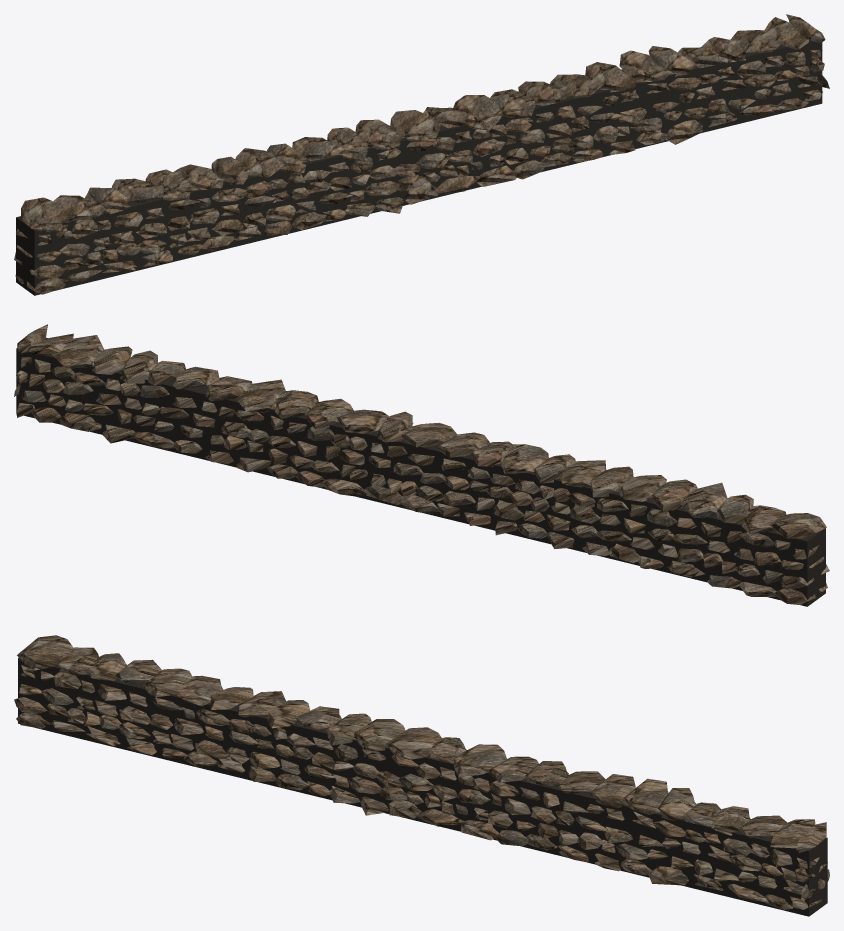
File: stonewall.glb
The picture shows the model from 3 angles, top to bottom: view 1: azimuth 30°, elevation 25°; view 2: azimuth 150°, elevation 25°; view 3: azimuth 330°, elevation 25°; orthographic projection.
Parts seen in each view (by area): view 1: part_1, part_0; view 2: part_1, part_0; view 3: part_1, part_0.
Part boxes in pixels (left/top/right/bottom): part_1: left=14, top=14, right=829, bottom=294; part_0: left=16, top=40, right=822, bottom=295; part_1: left=14, top=324, right=829, bottom=604; part_0: left=16, top=337, right=825, bottom=606; part_1: left=14, top=635, right=829, bottom=910; part_0: left=18, top=658, right=827, bottom=916.
Size of the model in its own units: 7.42 by 0.7256 by 0.6134.
Materials: 2 (1 with a texture image).
